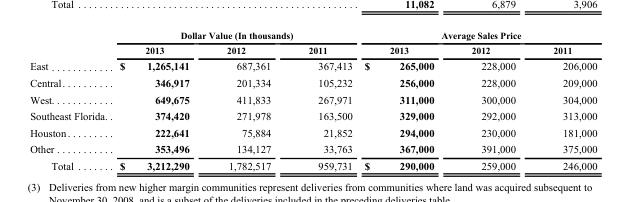table: (29, 29, 596, 171)
table column: (112, 29, 207, 171), (357, 29, 452, 171), (29, 29, 112, 171), (207, 29, 289, 171), (452, 29, 533, 171), (289, 29, 357, 171), (533, 29, 596, 171)
table column header: (29, 29, 596, 57)
table row: (29, 57, 596, 74), (29, 90, 596, 107), (29, 123, 596, 140), (29, 74, 596, 90), (29, 107, 596, 123), (29, 140, 596, 156), (29, 42, 596, 57), (29, 156, 596, 171), (29, 29, 596, 42)
table spanning cell: (112, 29, 357, 42), (357, 29, 596, 42)
